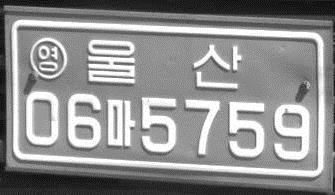0: (23, 89, 60, 147)
5: (227, 99, 265, 159), (140, 94, 177, 155)
6: (65, 90, 101, 150)
7: (182, 97, 222, 158)
9: (272, 102, 311, 161)
마: (105, 97, 136, 150)
영: (29, 36, 67, 81)
울산_D: (85, 36, 243, 92)
